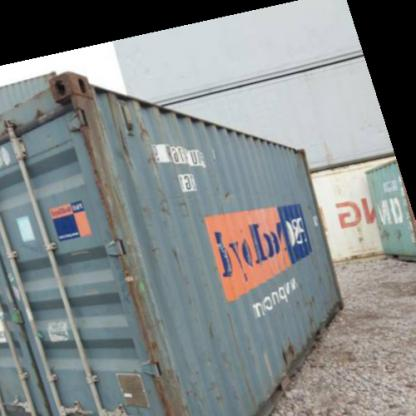Damage: (289, 278, 330, 334), (167, 242, 193, 282), (113, 118, 135, 160), (272, 338, 299, 370), (154, 186, 176, 221), (174, 187, 194, 220), (113, 93, 137, 118), (215, 181, 241, 203), (28, 105, 55, 124), (203, 317, 223, 342), (144, 142, 161, 167), (136, 118, 154, 139), (145, 239, 162, 258)
